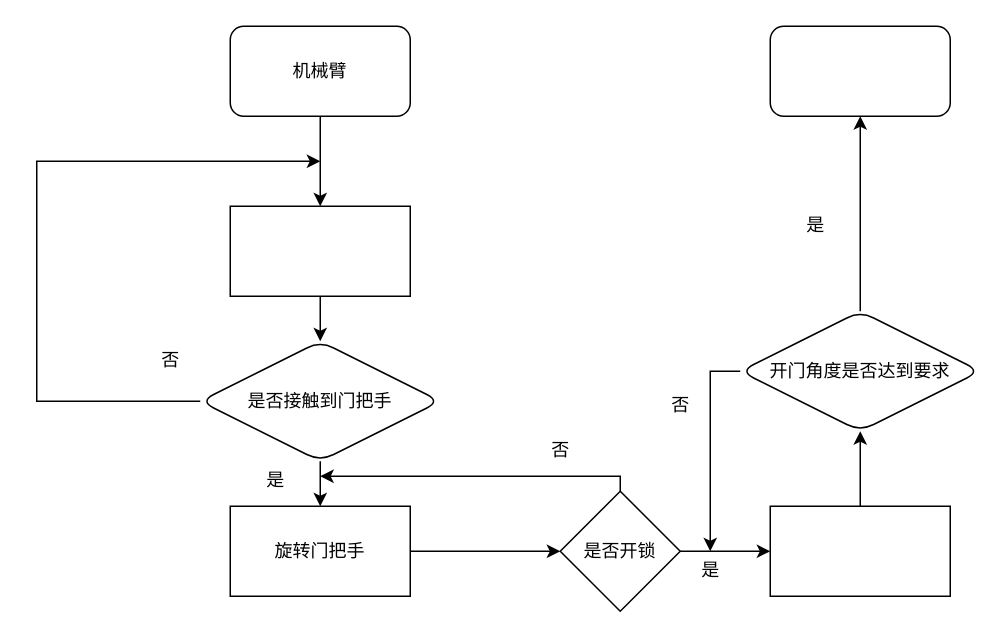
The diagram is 1007 pixels wide and 638 high, and some of its shapes have lost their labels. Here are the shapes that lost their labels. From the top down, the box of each, then its label:
(769, 25, 950, 116): 结束一次循环
(229, 205, 410, 296): 探索运动
(769, 505, 950, 596): 拉动门把手
